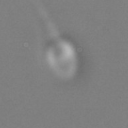normal: (23, 1, 61, 38)
